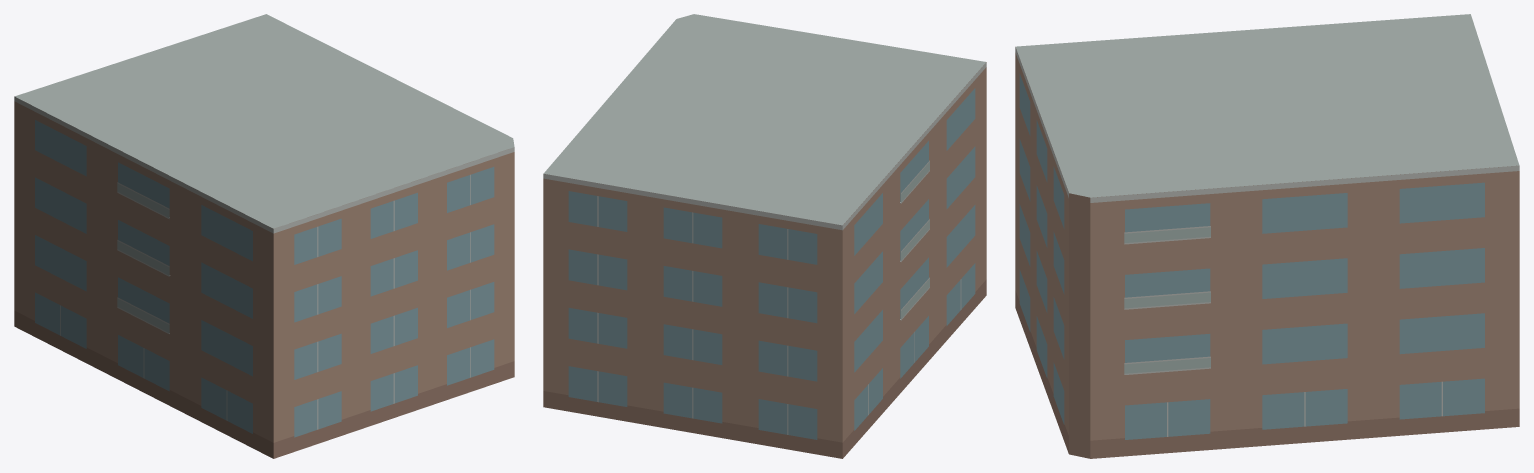
File: survey-upis-32703418.glb
3 views of the same model, side by side, from view 1: azimuth 30°, elevation 25°; view 2: azimuth 150°, elevation 25°; view 3: azimuth 270°, elevation 25° (orthographic). The views are drawn at different scales.
Parts seen in each view (by area): view 1: survey-upis-32703418.tmp; view 2: survey-upis-32703418.tmp; view 3: survey-upis-32703418.tmp.
Boxes of the visible parts, left/top/right/bottom form: survey-upis-32703418.tmp: left=14, top=14, right=514, bottom=458; survey-upis-32703418.tmp: left=543, top=14, right=986, bottom=458; survey-upis-32703418.tmp: left=1015, top=14, right=1519, bottom=458.
Size of the model in its own units: 17.64 by 11.7 by 20.47.
